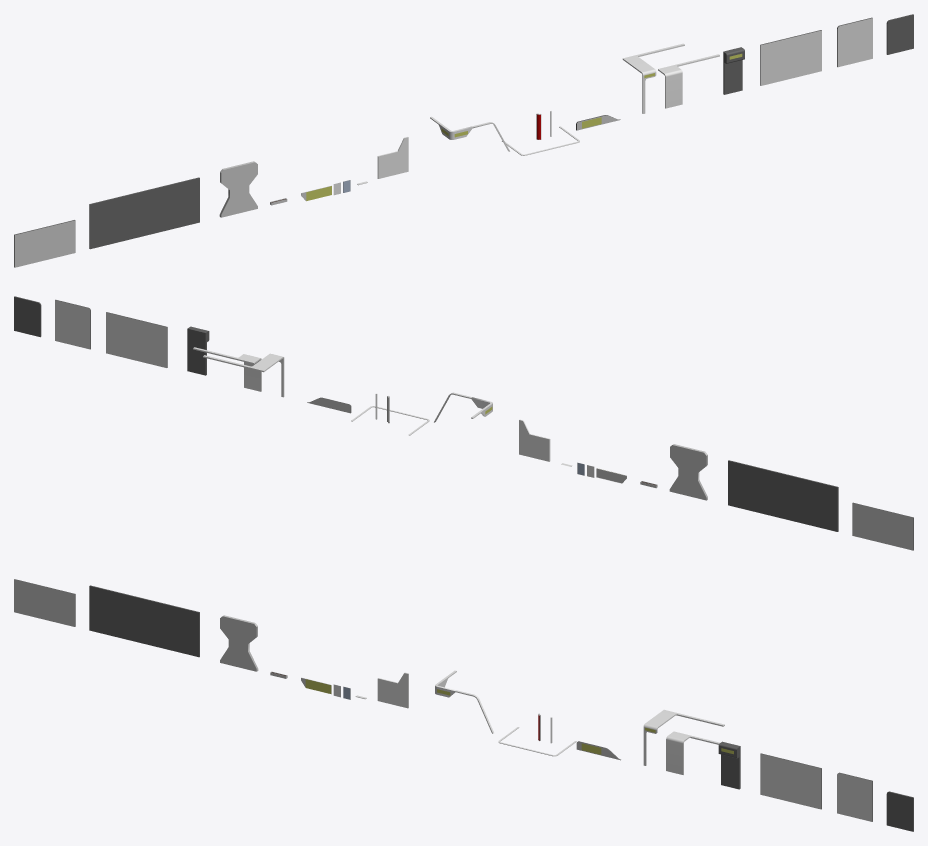
Rendered from Shapes.fbx.
3 views of the same model, one above another, from view 1: azimuth 30°, elevation 25°; view 2: azimuth 150°, elevation 25°; view 3: azimuth 330°, elevation 25° (orthographic).
Parts seen in each view (by area): view 1: Wall, Wall_3, Wall_2, Shape_1, Wall_4, Wall_5, Shape_6, Shape_5, Shape_2, Shape_7; view 2: Wall, Wall_3, Wall_2, Shape_1, Wall_4, Wall_5, Shape_5, Shape_2, Shape_6, Shape_7; view 3: Wall, Wall_3, Wall_2, Shape_1, Wall_4, Wall_5, Shape_5, Shape_6, Shape_2, Shape_7.
Boxes of the visible parts, x1,y1,x2,y2 form: Wall: [89, 177, 199, 249]; Wall_3: [760, 30, 821, 85]; Wall_2: [14, 220, 75, 267]; Shape_1: [219, 161, 257, 217]; Wall_4: [837, 17, 872, 67]; Wall_5: [886, 14, 913, 54]; Shape_6: [658, 54, 719, 108]; Shape_5: [723, 47, 744, 94]; Shape_2: [377, 137, 408, 178]; Shape_7: [622, 43, 684, 113]; Wall: [728, 460, 838, 531]; Wall_3: [106, 312, 167, 367]; Wall_2: [852, 502, 913, 550]; Shape_1: [669, 444, 707, 500]; Wall_4: [55, 299, 90, 349]; Wall_5: [14, 296, 41, 337]; Shape_5: [187, 326, 209, 375]; Shape_2: [519, 419, 550, 461]; Shape_6: [193, 347, 261, 391]; Shape_7: [203, 353, 284, 397]; Wall: [89, 585, 199, 657]; Wall_3: [760, 753, 821, 809]; Wall_2: [14, 579, 75, 626]; Shape_1: [220, 615, 258, 671]; Wall_4: [837, 772, 872, 821]; Wall_5: [886, 791, 913, 831]; Shape_5: [718, 741, 740, 789]; Shape_6: [666, 731, 720, 774]; Shape_2: [377, 672, 408, 708]; Shape_7: [643, 709, 724, 765].
Size of the model in its own units: 7373 by 415 by 475.
